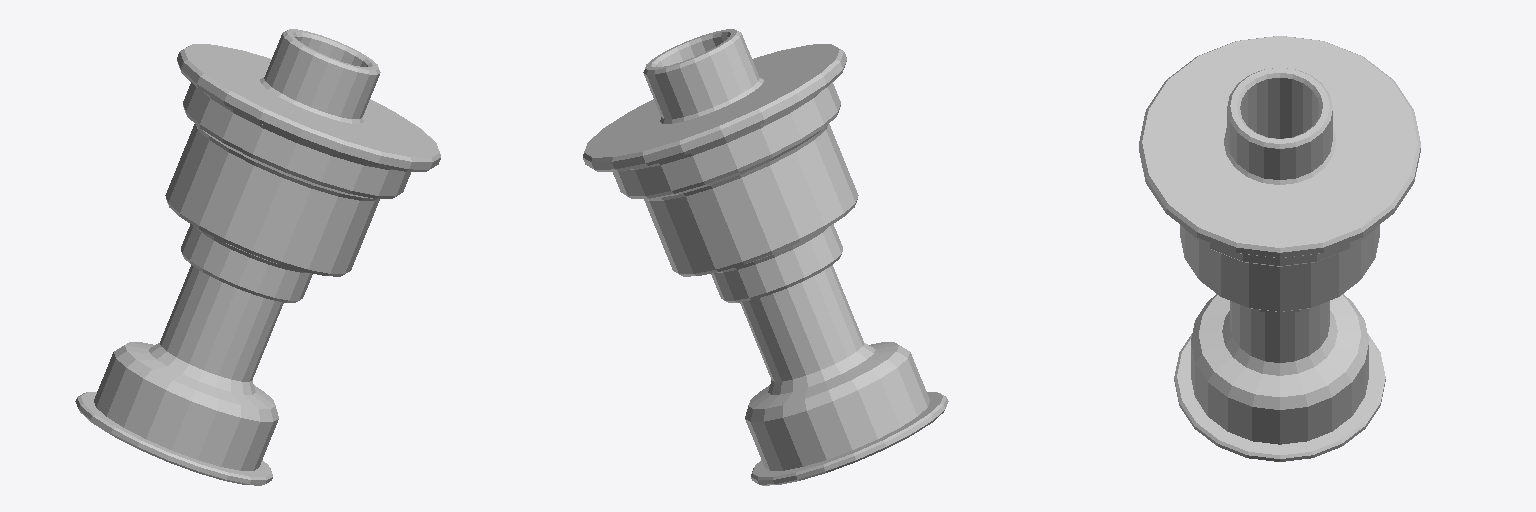
Rendered from Emitter_Luke.obj.
The picture shows the model from 3 angles: view 1: azimuth 30°, elevation 25°; view 2: azimuth 150°, elevation 25°; view 3: azimuth 270°, elevation 25°; orthographic projection.
Parts seen in each view (by area): view 1: Emitter_Luke Luke_GRP; view 2: Emitter_Luke Luke_GRP; view 3: Emitter_Luke Luke_GRP.
Part boxes in pixels (bbox=[...]): Emitter_Luke Luke_GRP: bbox=[75, 29, 440, 485]; Emitter_Luke Luke_GRP: bbox=[583, 29, 948, 485]; Emitter_Luke Luke_GRP: bbox=[1139, 36, 1420, 461].
Bounding box in the file's own units: 4.8 × 5.74 × 3.55.